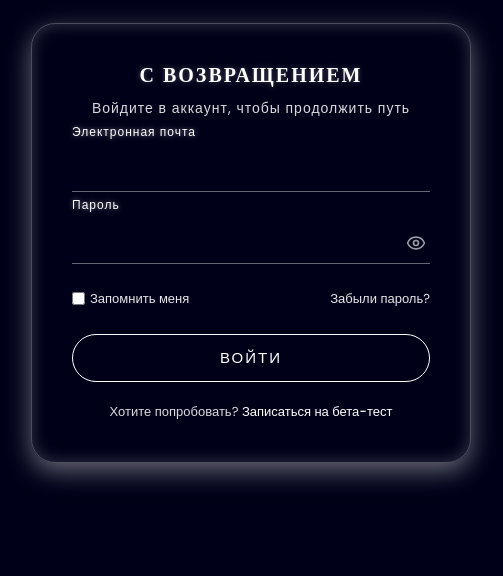
Scenario: SignIn › shows error message on 401 invalid credentials
Type "user@example.com" into the field labelled "Электронная почта". click: (251, 168)
box: [72,144,430,192]
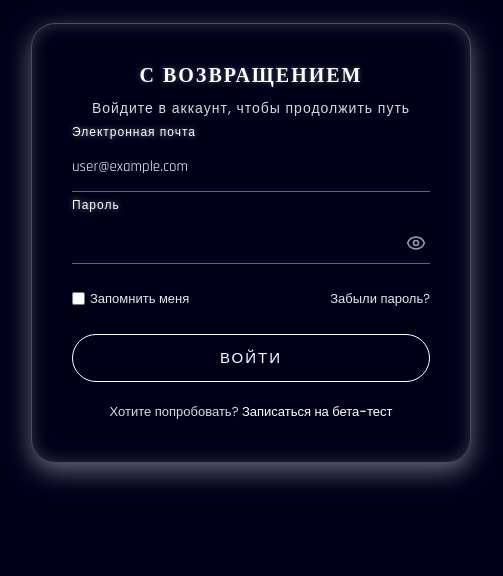
Type "wrongpass" into the password field labelled "Пароль". click: (251, 240)
box: [72,216,430,264]
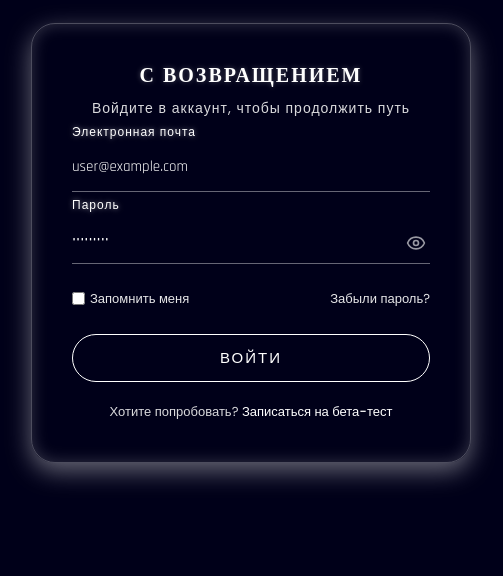
Submit the form labelled "Электронная почта", box [72,144,430,382]
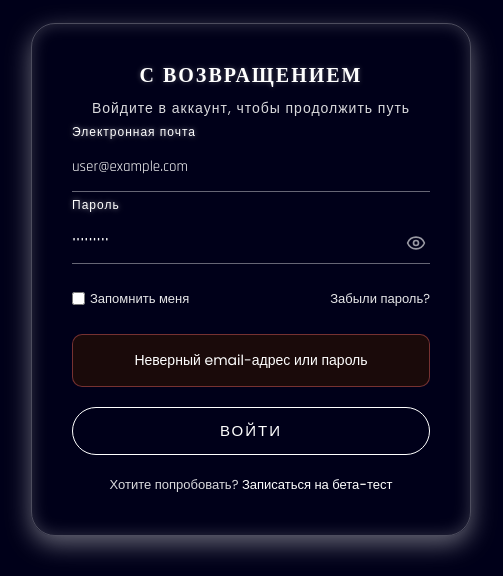
Result: the message "Неверный email-адрес или пароль" is shown at [72,334,430,386]
